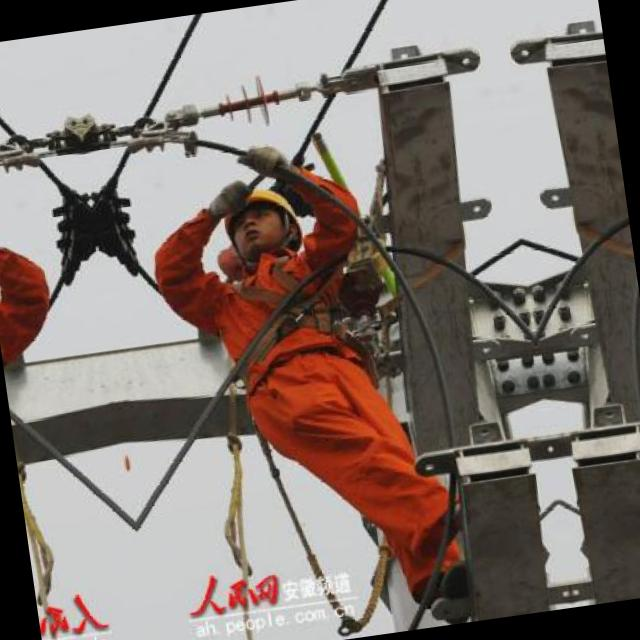helmet: (206, 168, 321, 268)
